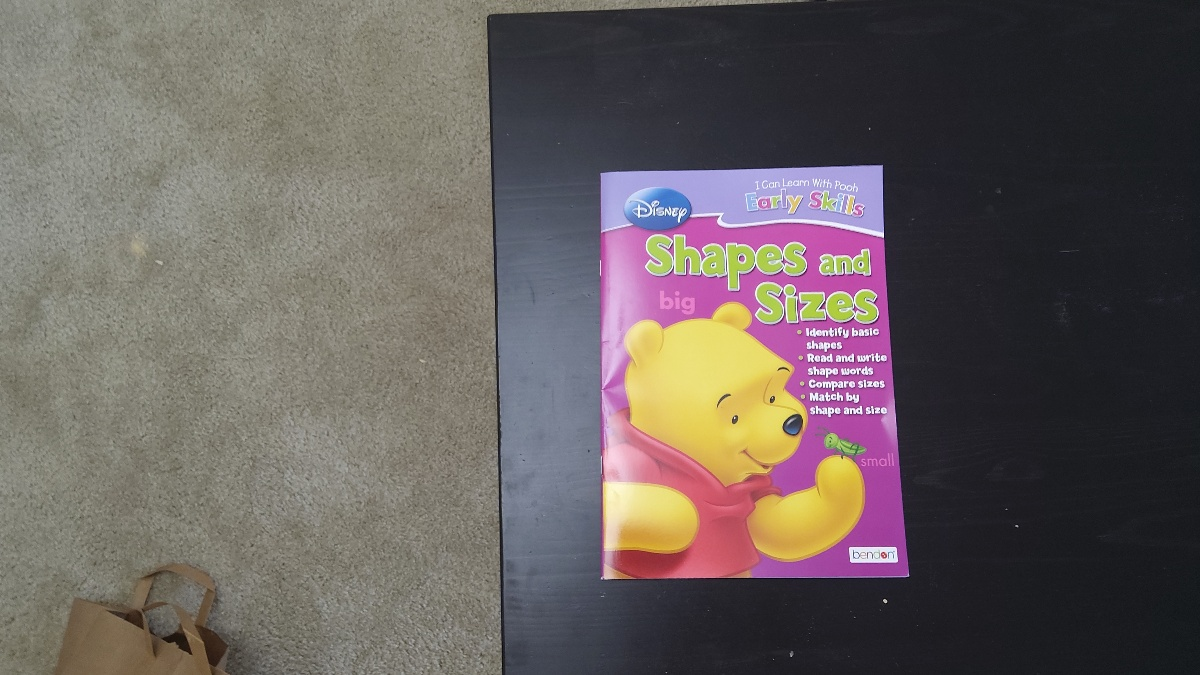book: (601, 164, 885, 579)
